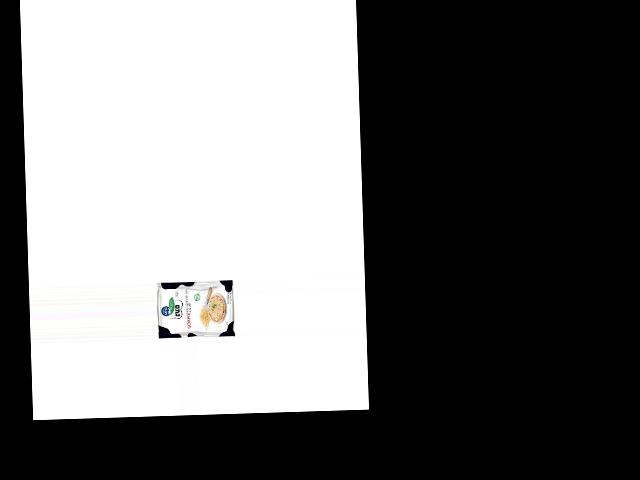cheese: (156, 279, 236, 340)
